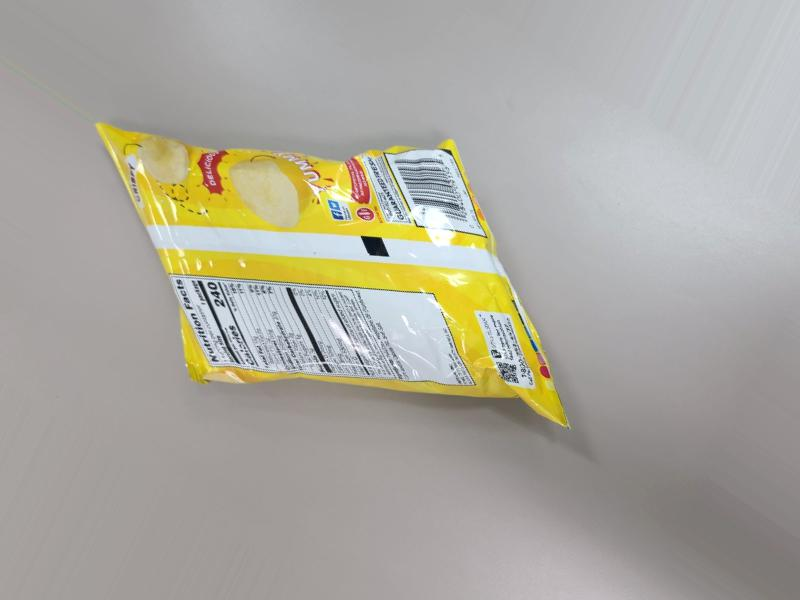lays: (93, 111, 579, 431)
